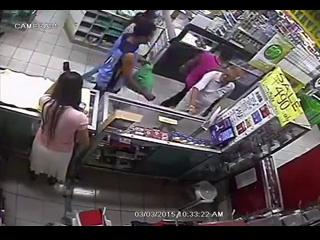Normal: (28, 63, 92, 189), (83, 15, 159, 102), (160, 49, 228, 108), (174, 66, 245, 118)
